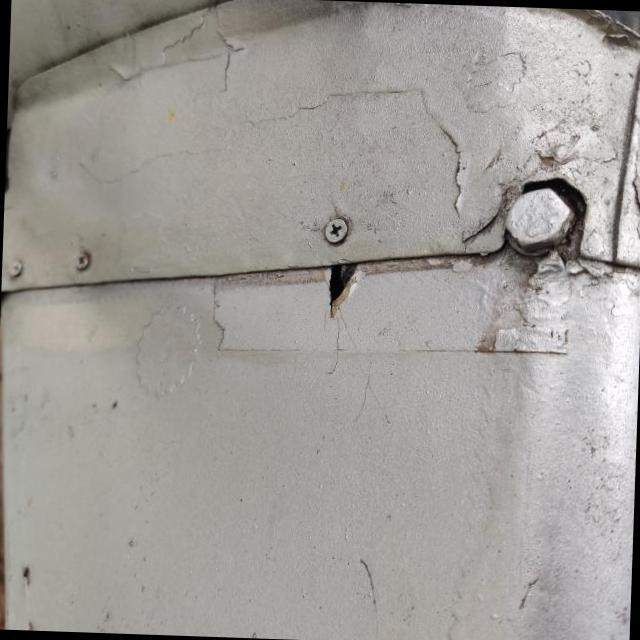Rupture: (300, 242, 387, 348)
